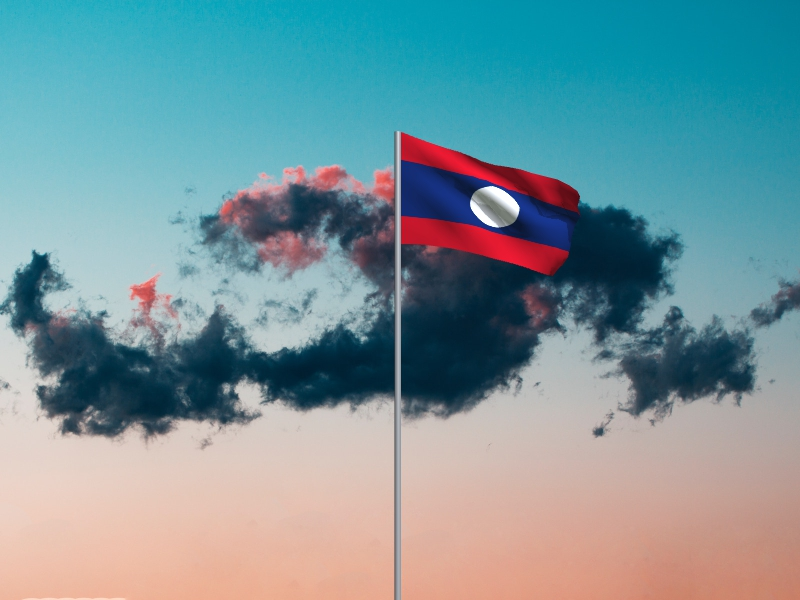la: (402, 133, 582, 278)
